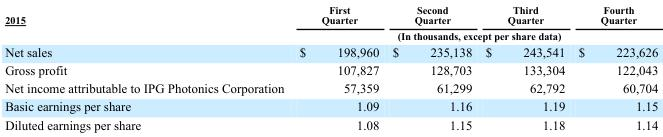table: (4, 3, 657, 131)
table column: (4, 3, 291, 131), (291, 3, 385, 131), (385, 3, 478, 131), (478, 3, 571, 131), (571, 3, 657, 131)
table column header: (4, 3, 657, 42)
table row: (4, 3, 657, 27), (4, 78, 657, 97), (4, 42, 657, 60), (4, 60, 657, 78), (4, 97, 657, 115), (4, 115, 657, 131), (4, 27, 657, 42)
table spanning cell: (4, 3, 291, 42), (291, 27, 657, 42)
